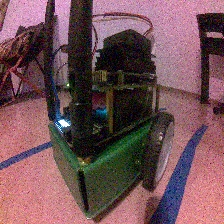rob: (47, 27, 175, 221)
